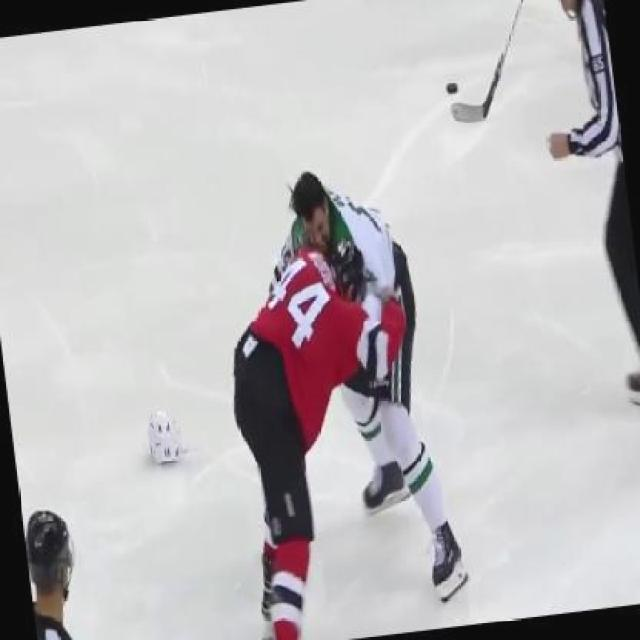fight: (202, 156, 468, 638)
non-fight: (526, 0, 639, 420)
